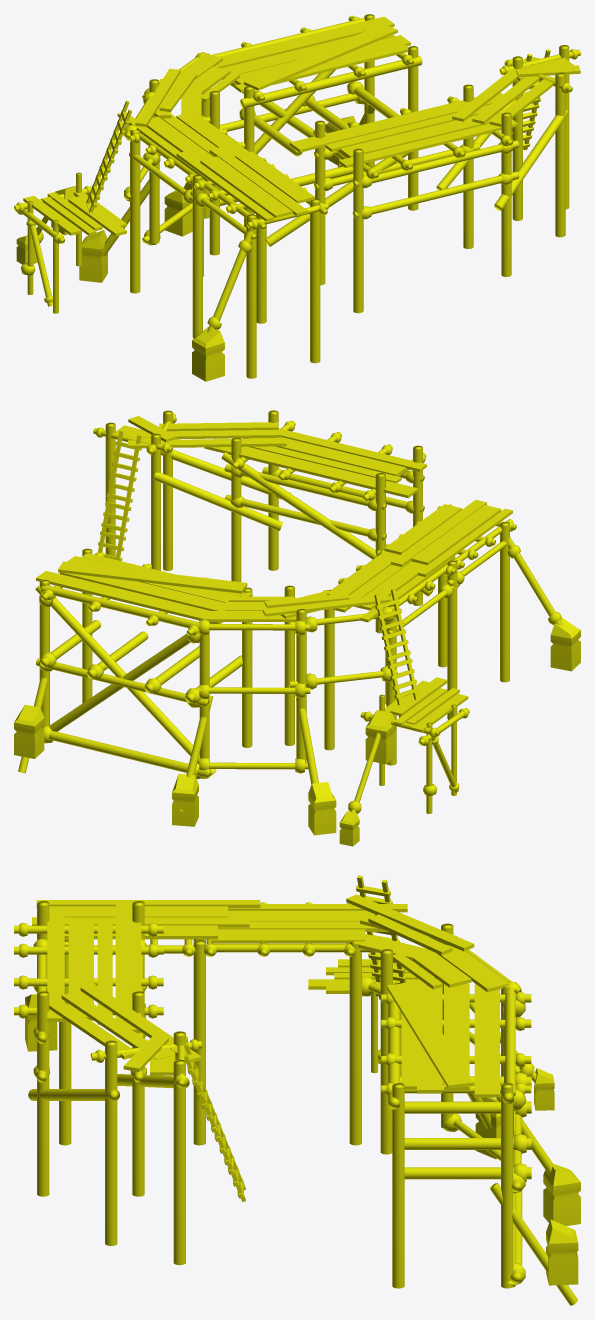
The model's file is smMineFence.fbx.
The picture shows the model from 3 angles, top to bottom: view 1: azimuth 30°, elevation 25°; view 2: azimuth 150°, elevation 25°; view 3: azimuth 270°, elevation 25°; orthographic projection. The views are drawn at different scales.
Parts seen in each view (by area): view 1: Scaffolding:pCylinder125; view 2: Scaffolding:pCylinder125; view 3: Scaffolding:pCylinder125.
Boxes of the visible parts, left/top/right/bottom form: Scaffolding:pCylinder125: left=14, top=14, right=580, bottom=381; Scaffolding:pCylinder125: left=14, top=410, right=580, bottom=846; Scaffolding:pCylinder125: left=14, top=875, right=580, bottom=1305.
Size of the model in its own units: 0.6851 by 0.3407 by 0.5878.
